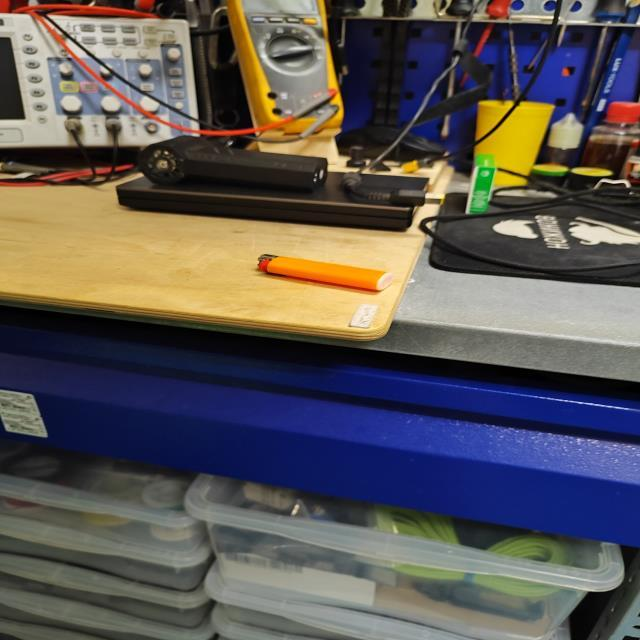lighter: (257, 254, 391, 291)
